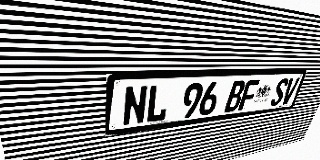6: (198, 81, 221, 116)
9: (180, 82, 204, 119)
B: (224, 80, 247, 113)
F: (238, 80, 260, 111)
L: (145, 84, 171, 123)
N: (122, 85, 148, 127)
S: (269, 78, 290, 106)
V: (280, 78, 300, 105)
